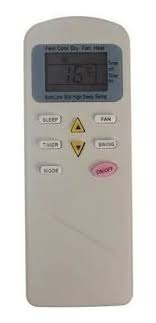remote control: (17, 16, 136, 315)
